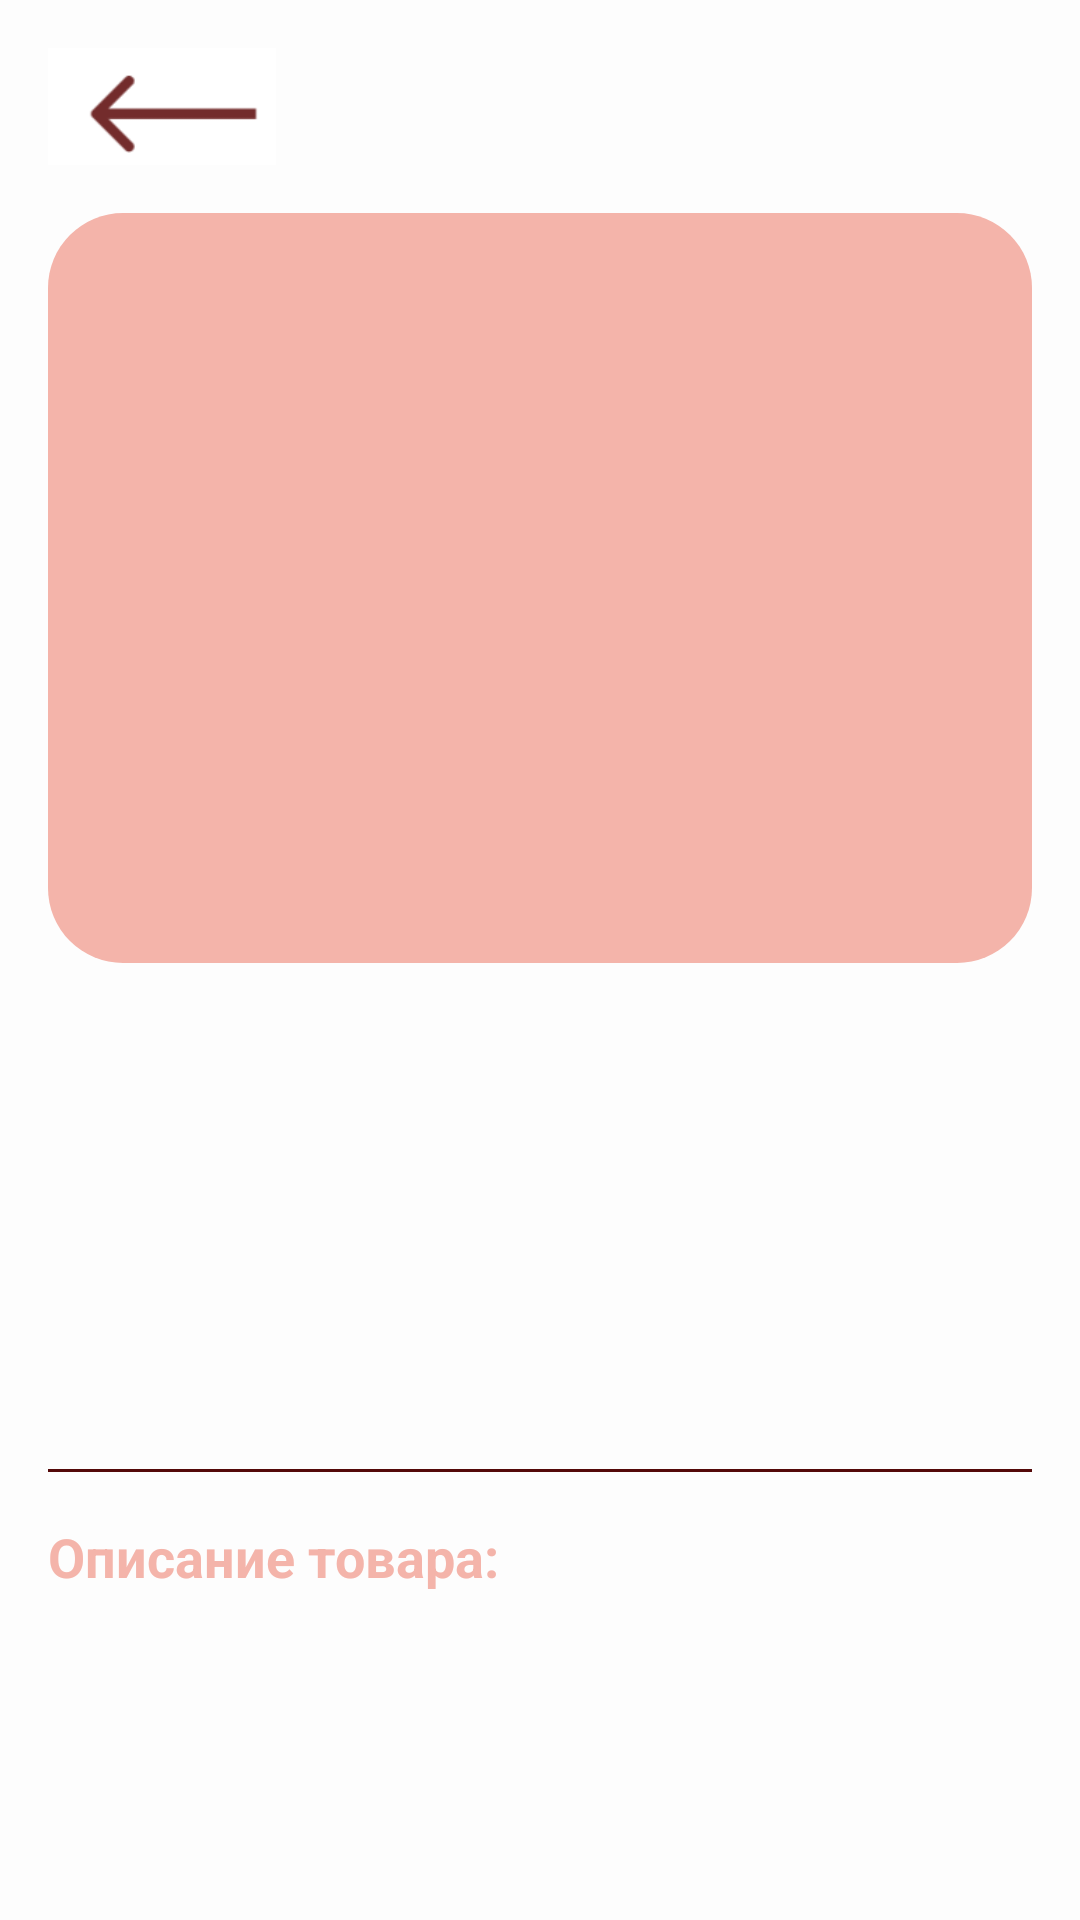

Where icons sit on this 1080×1920 app screen, as (x1, y1, x2, y2):
strelochka: (90, 75, 257, 153)
